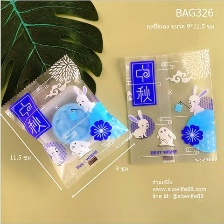snack: (0, 47, 136, 192), (116, 42, 223, 170)
